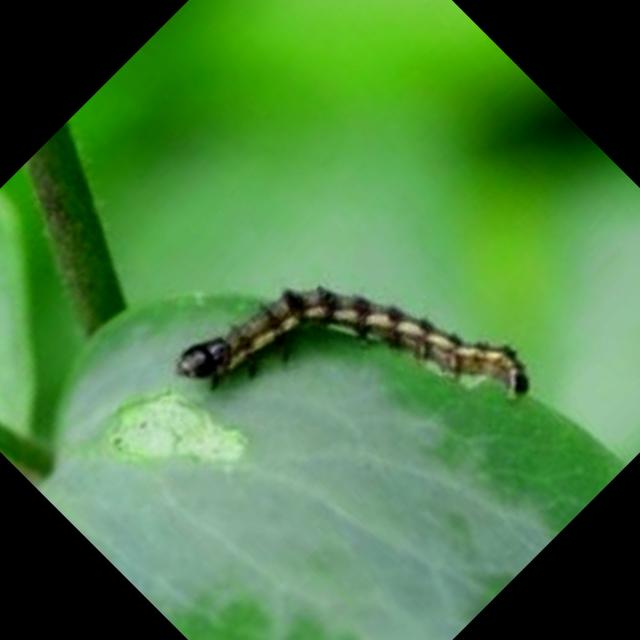Cotton bollworm: (158, 172, 556, 570)
